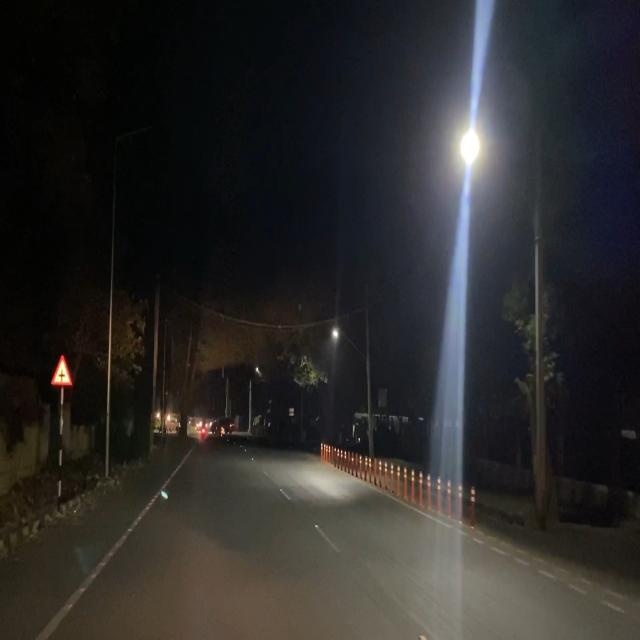bien_nguy_hiem: (49, 346, 73, 392)
